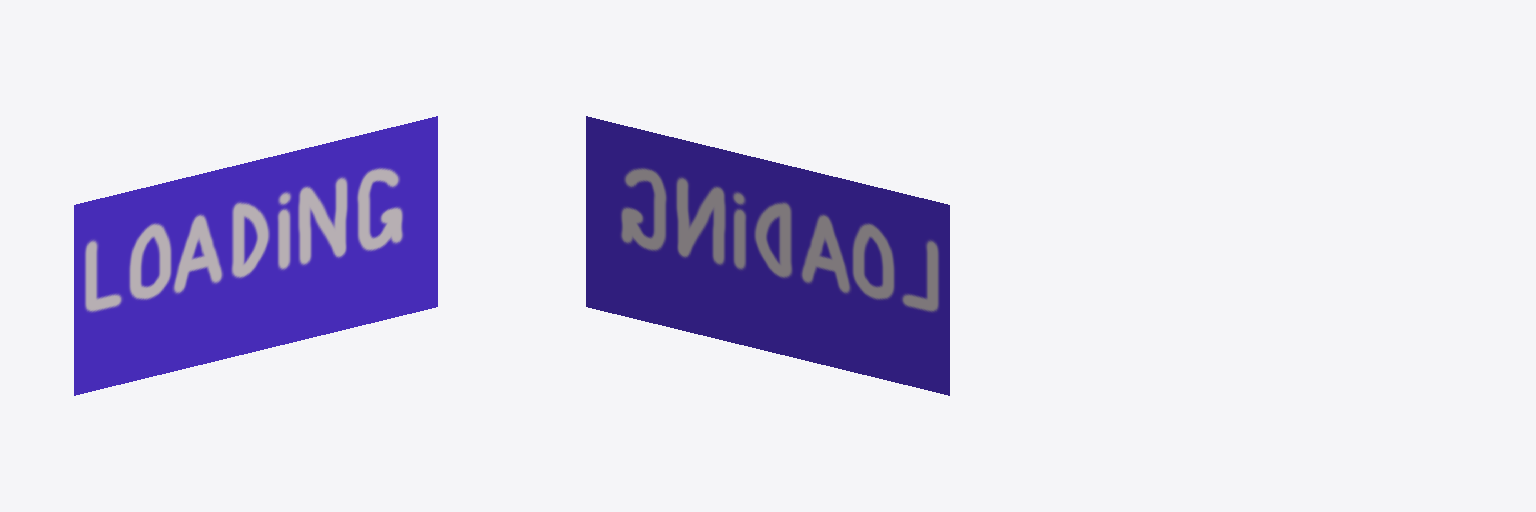
The picture shows the model from 3 angles: view 1: azimuth 30°, elevation 25°; view 2: azimuth 150°, elevation 25°; view 3: azimuth 270°, elevation 25°; orthographic projection.
Visible parts, largest first — view 1: Plane; view 2: Plane; view 3: none.
Part boxes in pixels (bbox=[...]): Plane: bbox=[74, 116, 437, 395]; Plane: bbox=[586, 116, 949, 395].
Bounding box in the file's own units: 4 × 2 × 0.
1 materials, 1 textured.